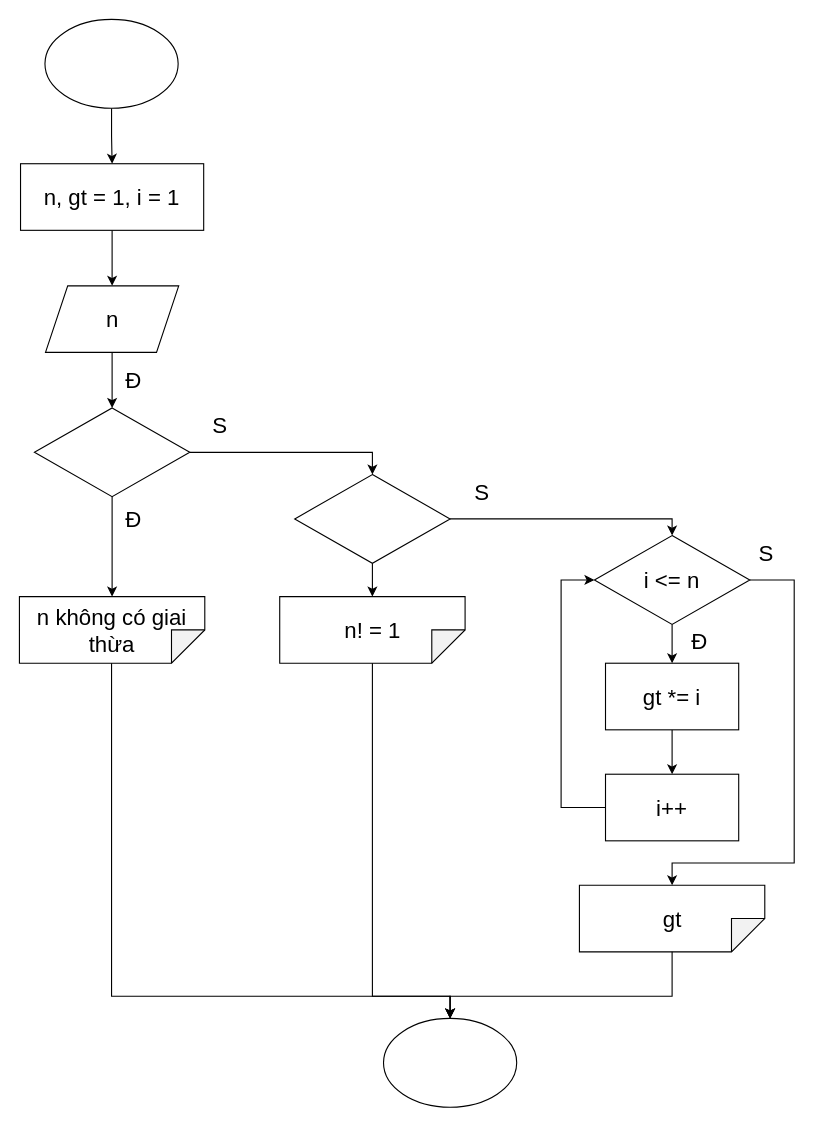
Some shapes in this 823 by 1127 pixel diagram are drawn without their labels. The shapes that lost their labels are listed below. From the top down, each one's centre as x and y in pixels, then its label:
(111,63): Bắt đầu
(111,452): n < 0
(372,518): n == 0
(449,1062): Kết thúc
